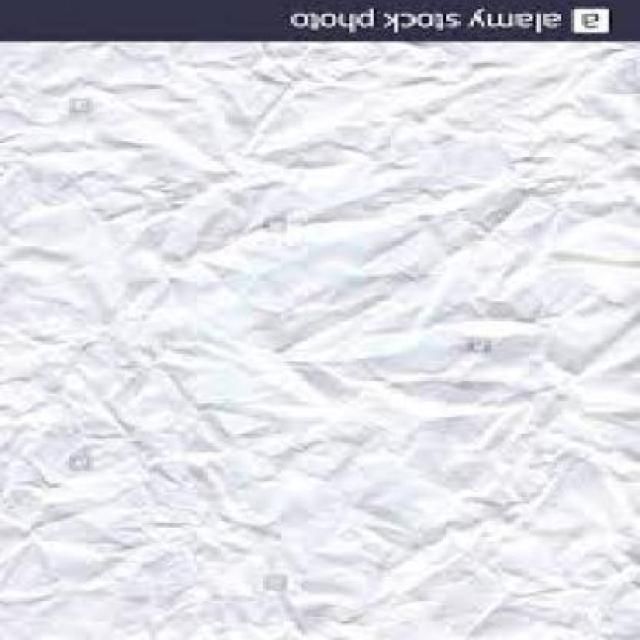PAPER: (3, 44, 639, 638)
